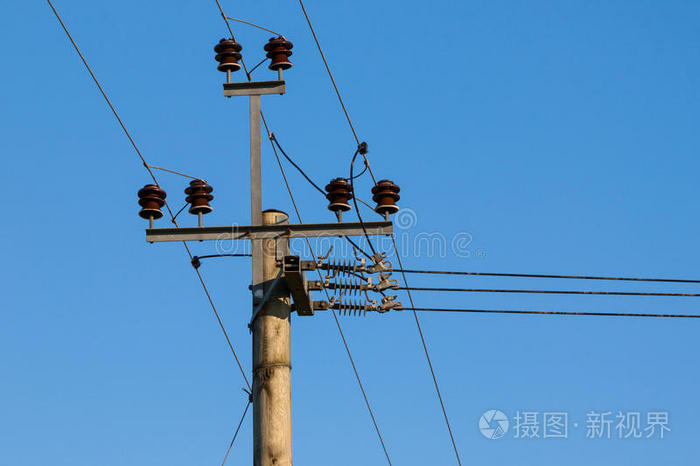insulator: (134, 185, 167, 221), (183, 182, 216, 218), (211, 39, 245, 72), (369, 180, 401, 213), (323, 178, 354, 211), (265, 38, 294, 72), (331, 299, 371, 318), (322, 257, 359, 277), (330, 277, 365, 297)
